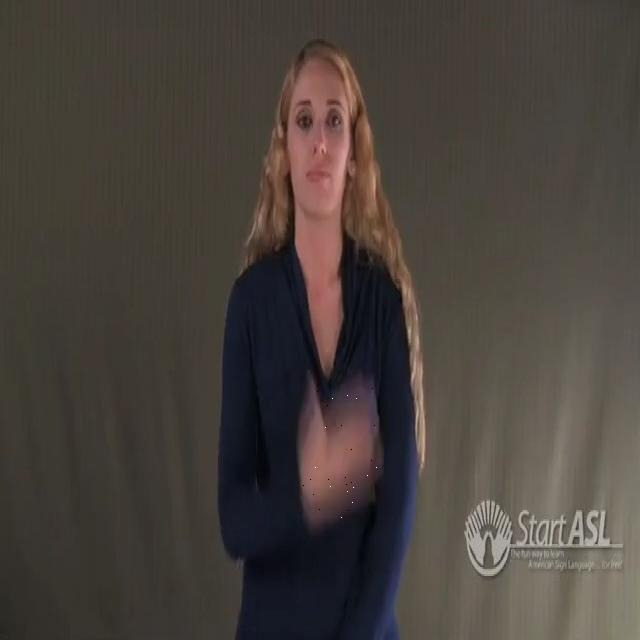thank-you: (300, 372, 386, 520)
